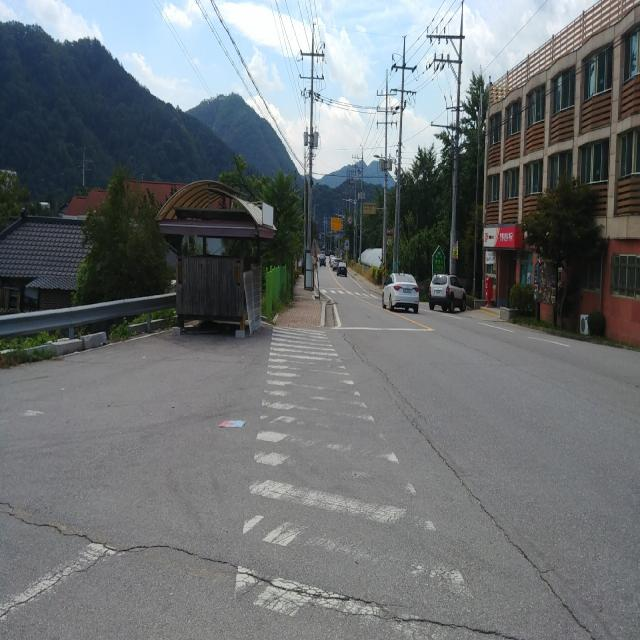횡단보도: (232, 319, 479, 640), (324, 288, 377, 296)
